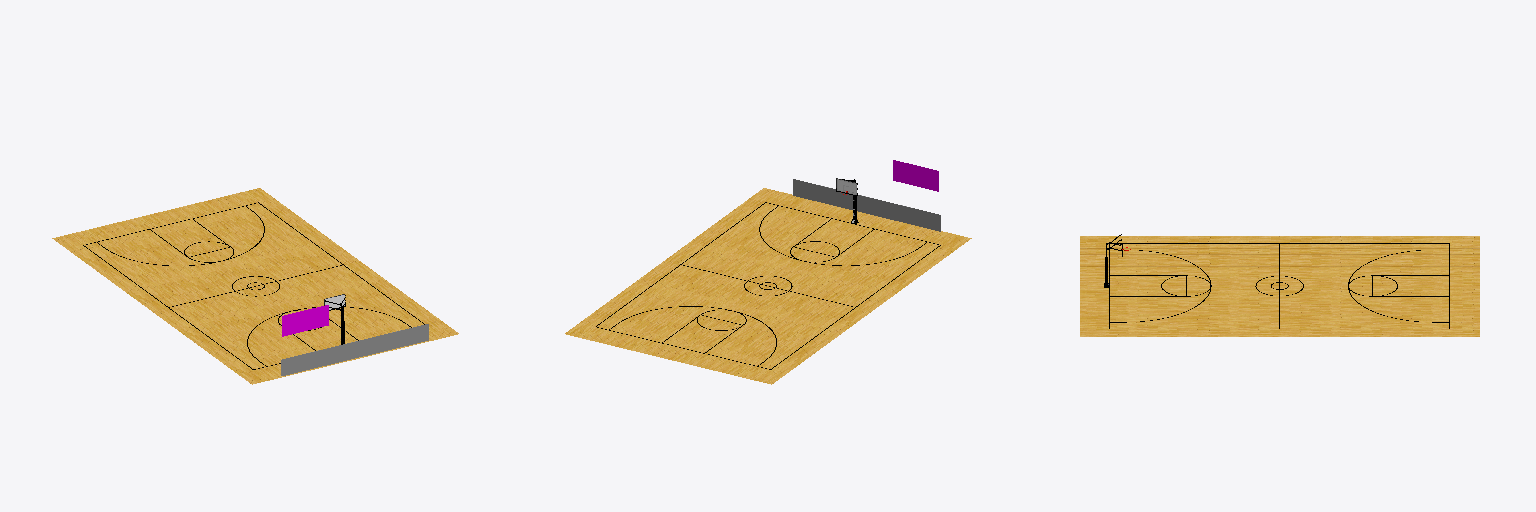
3 renders of one model, left to right at view 1: azimuth 30°, elevation 25°; view 2: azimuth 150°, elevation 25°; view 3: azimuth 270°, elevation 25°, orthographic.
Parts seen in each view (by area): view 1: court_Plane, adstripe_ads, felfestes_lines, scoreboard_Plane.001; view 2: court_Plane, adstripe_ads, felfestes_lines, scoreboard_Plane.001; view 3: court_Plane, felfestes_lines.
Boxes of the visible parts, x1,y1,x2,y2 form: court_Plane: [52, 188, 458, 384]; adstripe_ads: [281, 324, 428, 375]; felfestes_lines: [83, 202, 424, 369]; scoreboard_Plane.001: [282, 305, 328, 336]; court_Plane: [565, 188, 971, 384]; adstripe_ads: [793, 179, 940, 231]; felfestes_lines: [596, 202, 940, 369]; scoreboard_Plane.001: [893, 160, 938, 191]; court_Plane: [1080, 236, 1479, 336]; felfestes_lines: [1109, 243, 1449, 328].
Bounding box in the file's own units: 18 × 5.01 × 30.
Materials: 8 (3 with a texture image).